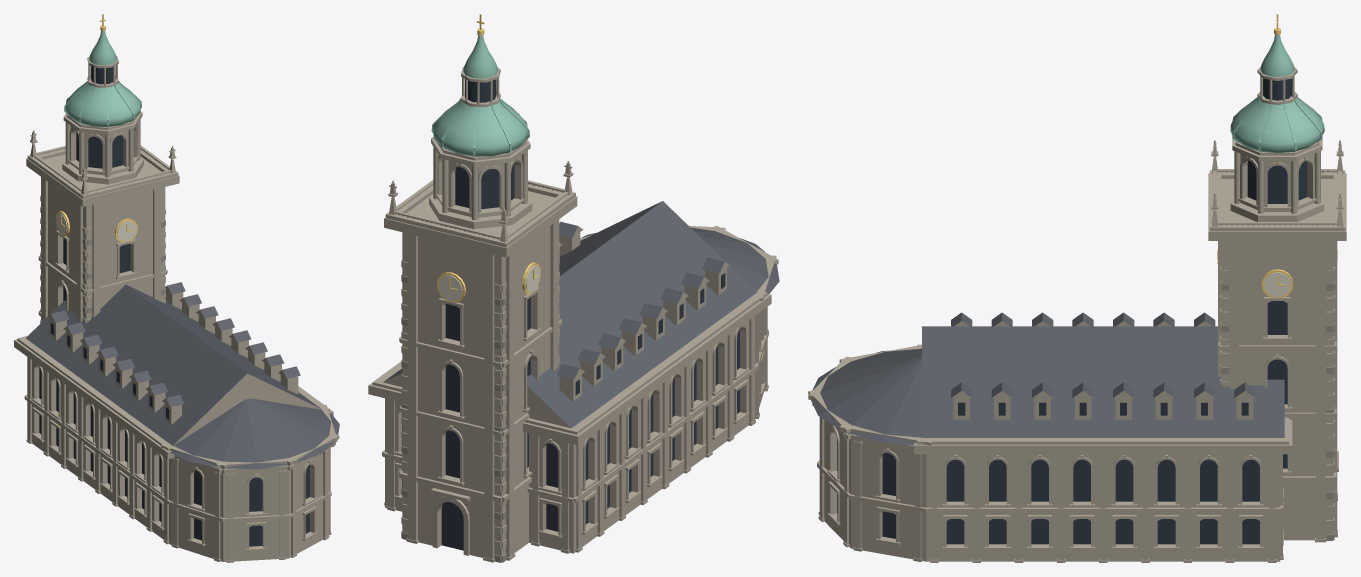
Rendered from kreuzkirche.glb.
3 views of the same model, side by side, from view 1: azimuth 30°, elevation 25°; view 2: azimuth 150°, elevation 25°; view 3: azimuth 270°, elevation 25° (orthographic). The views are drawn at different scales.
Parts seen in each view (by area): view 1: kreuzkirche; view 2: kreuzkirche; view 3: kreuzkirche.
Part boxes in pixels (bbox=[...]): kreuzkirche: bbox=[14, 14, 339, 562]; kreuzkirche: bbox=[368, 14, 779, 562]; kreuzkirche: bbox=[808, 14, 1346, 562].
Size of the model in its own units: 40 by 93.9 by 91.16.
